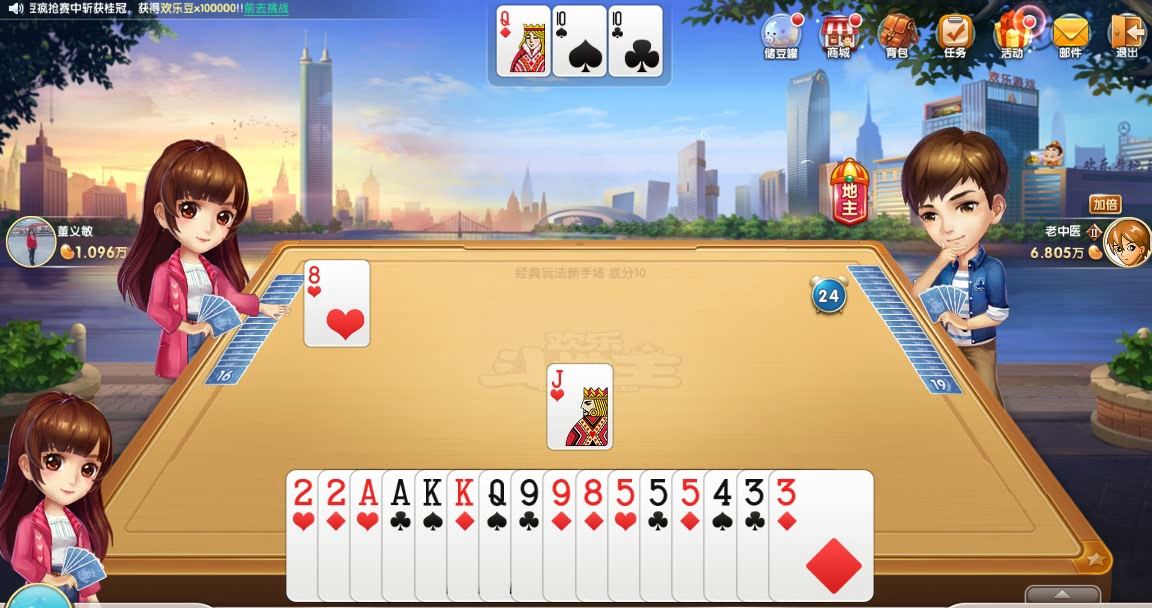10~2: (609, 4, 662, 76)
10~4: (554, 4, 607, 76)
11~3: (545, 364, 613, 450)
12~1: (497, 5, 550, 77)
12~4: (478, 469, 585, 601)
13~1: (446, 469, 553, 601)
13~4: (412, 469, 519, 601)
14~2: (381, 469, 488, 601)
14~3: (349, 469, 456, 601)
15~1: (317, 469, 424, 601)
15~3: (286, 469, 393, 601)
3~1: (767, 470, 874, 602)
3~2: (736, 470, 843, 602)
4~4: (701, 470, 808, 602)
5~1: (670, 470, 777, 602)
5~2: (639, 468, 746, 600)
5~3: (606, 469, 713, 601)
8~1: (575, 469, 682, 601)
8~3: (304, 260, 370, 347)
9~1: (542, 469, 649, 601)
9~2: (510, 469, 617, 601)
